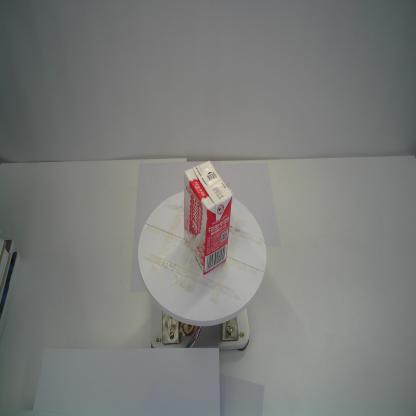Milk: (183, 158, 233, 277)
